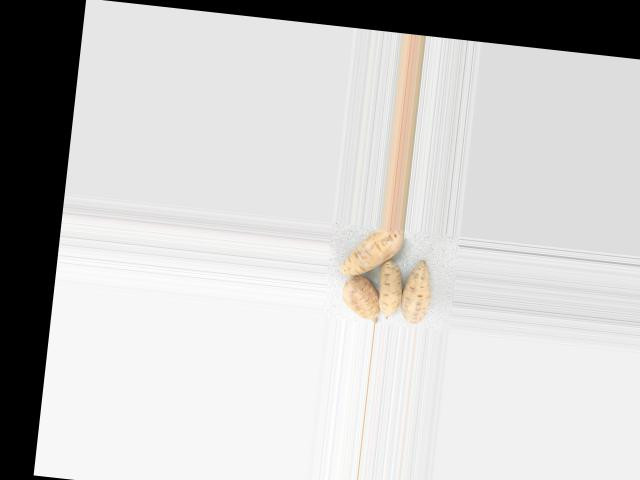sweet_potato: (334, 222, 411, 281)
